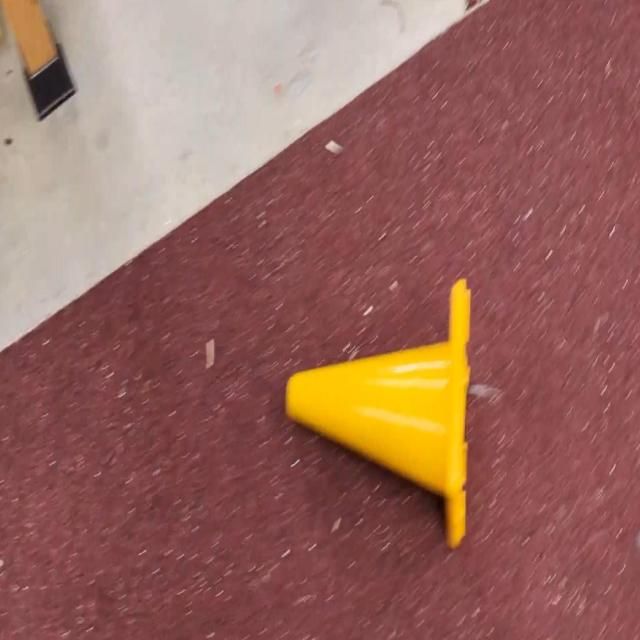frc_cone: (286, 283, 470, 548)
